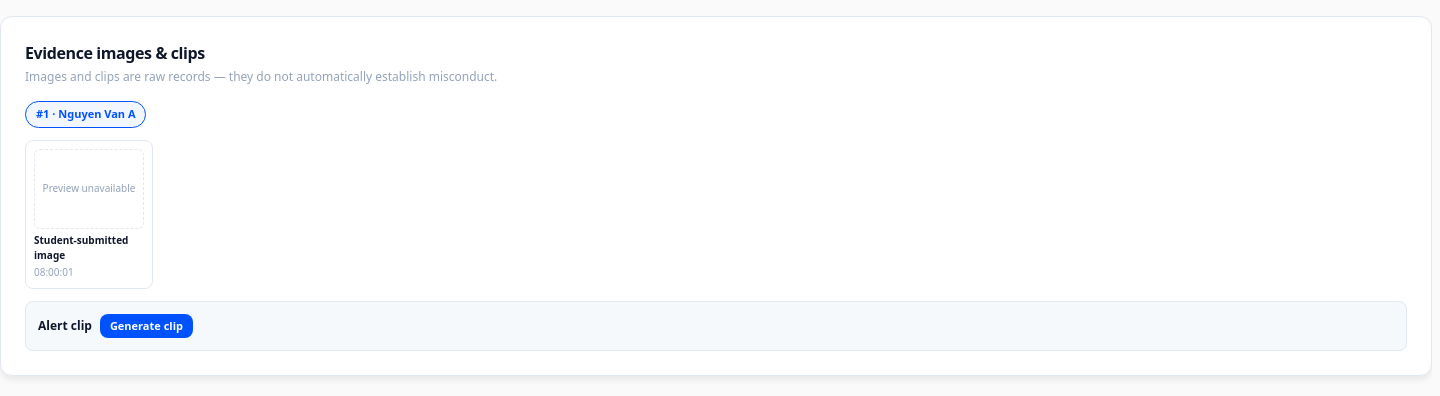
Test: EvidenceSection › no clip yet → 'Generate clip' posts the clip request, then shows PENDING
Step 1. Click the button "Generate clip" → (146, 326), box [100, 314, 193, 338]
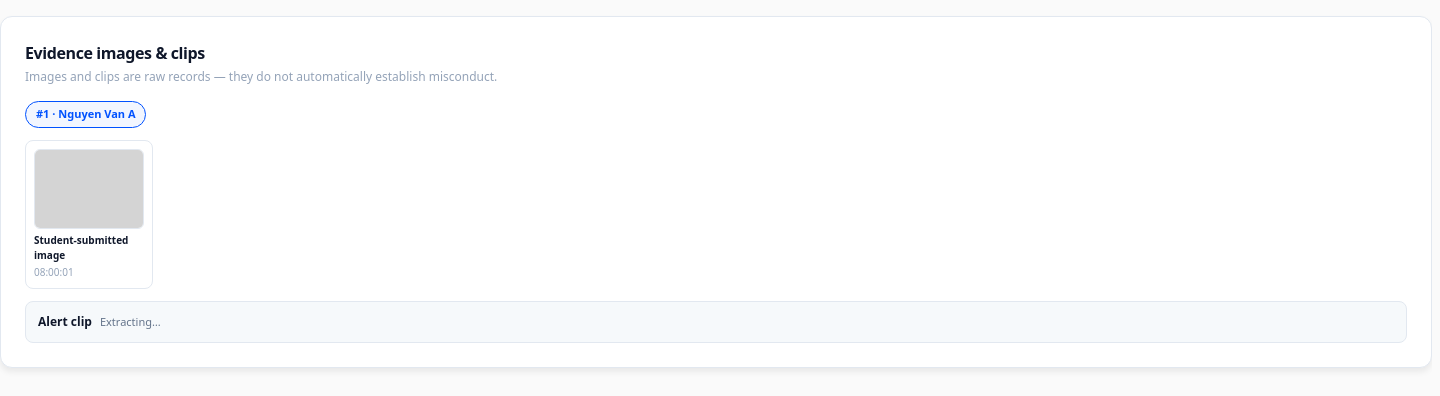
expect the text "Extracting…" is shown: met, box [100, 314, 161, 330]
